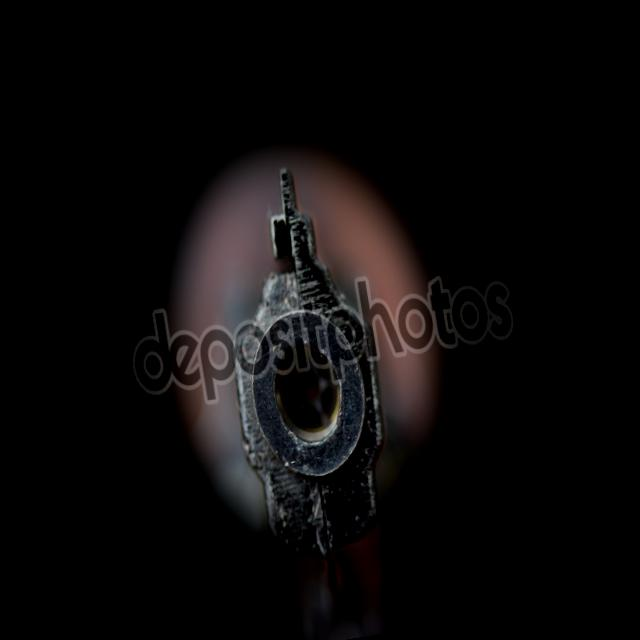handgun: (190, 123, 423, 639)
